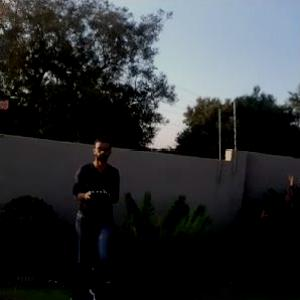follow: (69, 137, 127, 299)
null: (134, 279, 203, 299)
